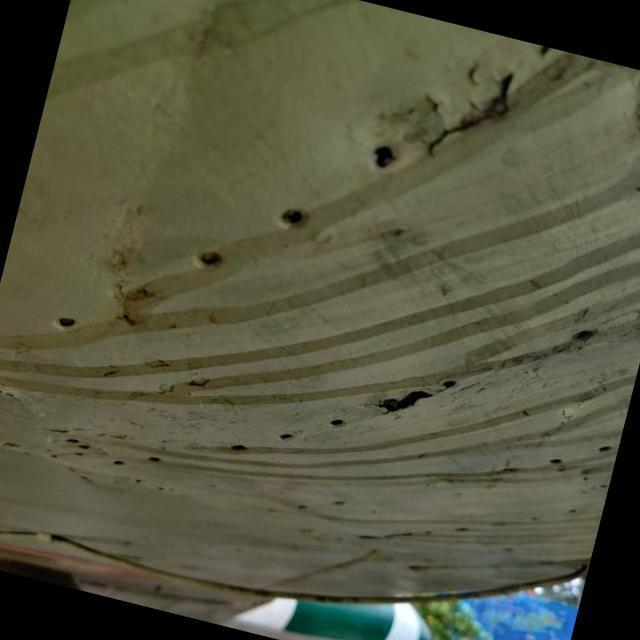Rupture: (352, 340, 481, 450)
